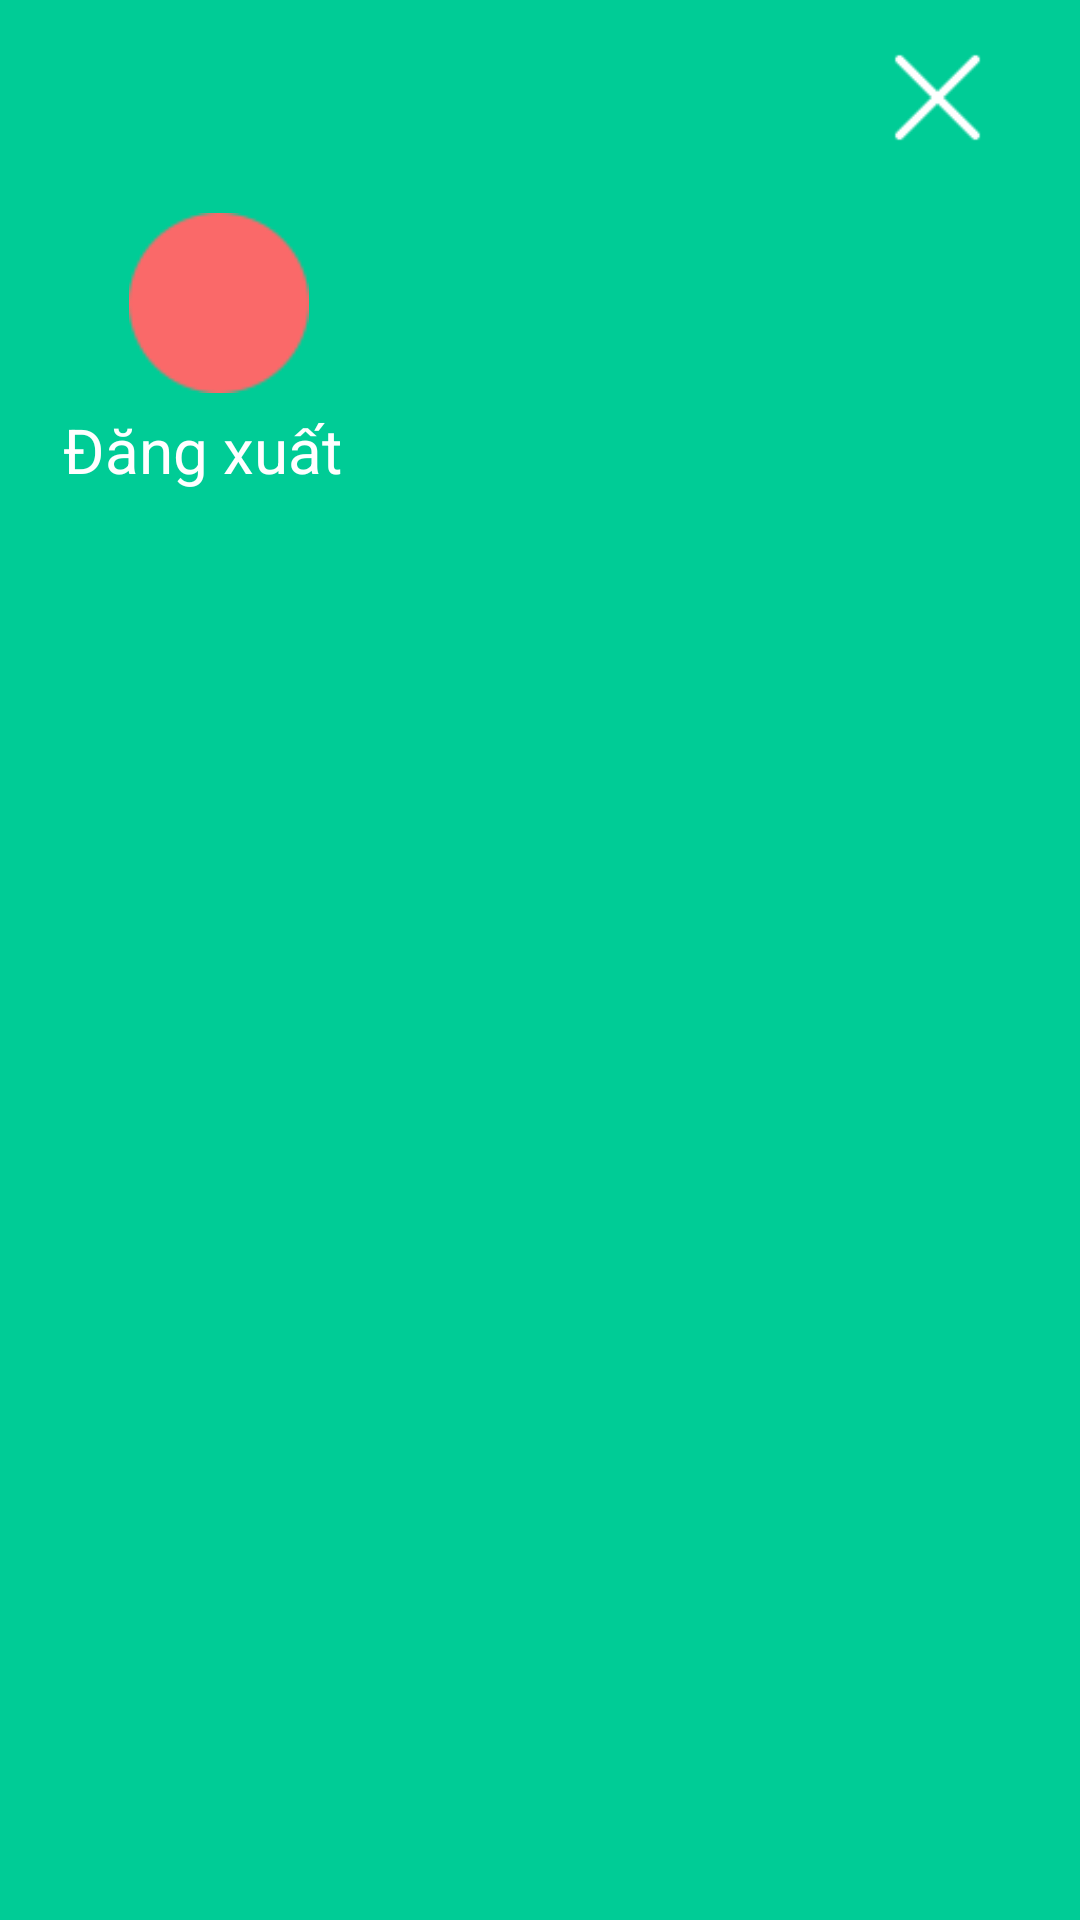

Named icons in this screenshot (1080px x 1920px) and their bounding boxes, [x1,y1,x2,y2]:
close: [894,54,981,141]
